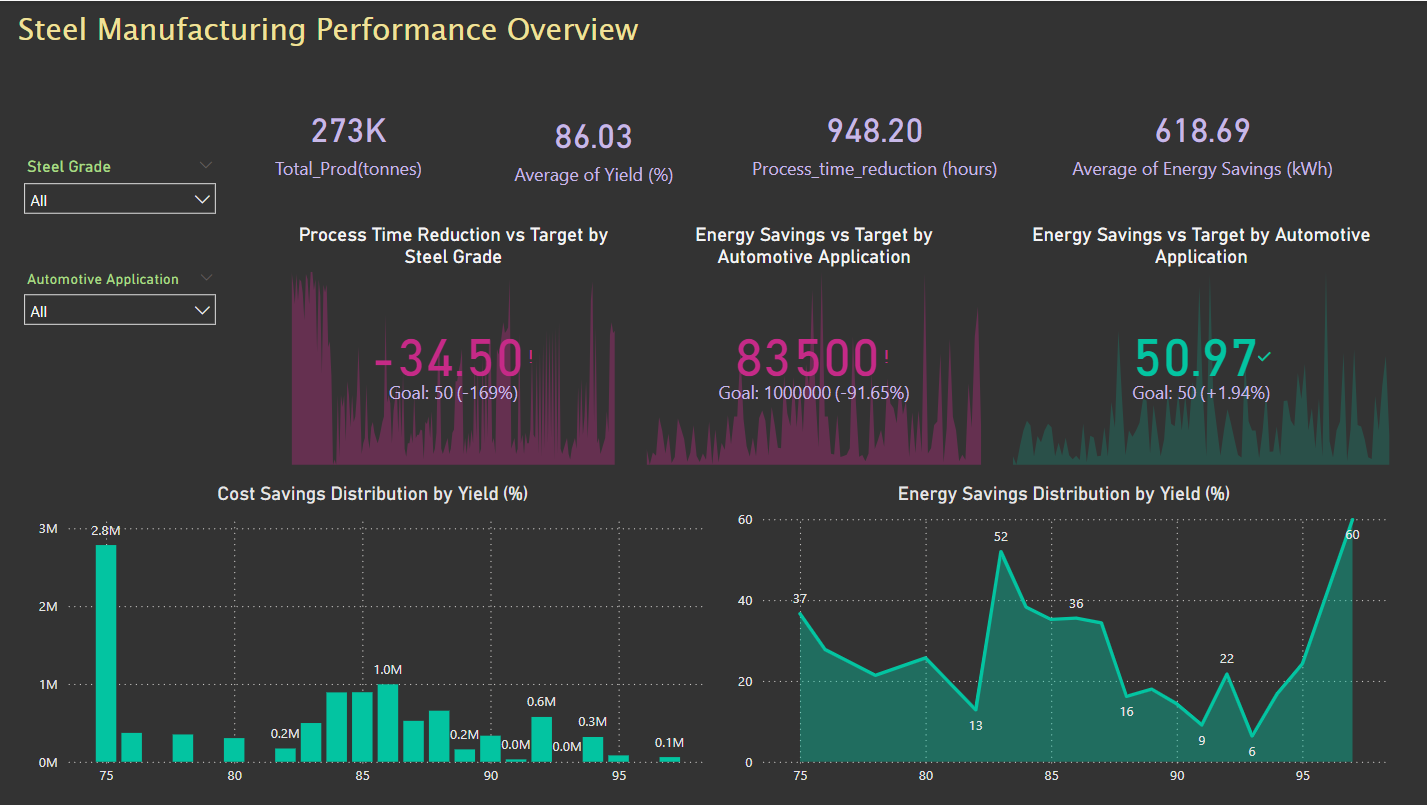

The dashboard page shown, as its layout file describes it:
{"tool":"powerbi","page":{"name":"KPI ","canvas":[1280,720],"ordinal":0},"visuals":[{"type":"kpi","title":"Energy Savings vs Target by Automotive Application","fields":{"Indicator":["Sum(data_new.Energy_savings_%)"],"TrendLine":["data_new.auto_app"],"Goal":["data_new.energy_saving_target(%)"]},"box":[904.6,199.1,346.3,220.7],"z":0},{"type":"kpi","title":"Energy Savings vs Target by Automotive Application","fields":{"Goal":["data_new.cost_saving_target($)"],"Indicator":["Sum(data_new.Total_cost_savings($))"],"TrendLine":["data_new.auto_app"]},"box":[577.1,199.1,308.8,220.7],"z":1000},{"type":"kpi","title":"Process Time Reduction vs Target by Steel Grade","fields":{"Indicator":["data_new.Process_time_reduction(%)"],"TrendLine":["data_new.steel_grade"],"Goal":["data_new.Target_process_reduction"]},"box":[259.7,199.1,298.7,220.7],"z":2000},{"type":"columnChart","title":"Cost Savings Distribution by Yield (%)","fields":{"Category":["data_new.Yield (%)"],"Y":["Sum(data_new.Total_cost_savings($))"]},"box":[33.2,429.9,607.4,279.9],"z":3000},{"type":"areaChart","title":"Energy Savings Distribution by Yield (%)","fields":{"Category":["data_new.Yield (%)"],"Y":["Avg(data_new.Energy_savings_%)"]},"box":[659.3,429.9,591.5,279.9],"z":4000},{"type":"slicer","fields":{"Values":["data_new.steel_grade"]},"box":[15.9,134.2,191.9,64.9],"z":5000},{"type":"slicer","fields":{"Values":["data_new.auto_app"]},"box":[15.9,235.2,191.9,75],"z":6000},{"type":"textbox","box":[15.9,0,581.4,73.6],"z":7000},{"type":"card","fields":{"Values":["data_new.Total_Prod(tonnes)"]},"box":[222.2,73.6,187.6,101],"z":8000},{"type":"card","fields":{"Values":["Avg(data_new.Yield (%))"]},"box":[440,73.6,190.4,111.1],"z":9000},{"type":"card","fields":{"Values":["data_new.Target_CT(hours)"]},"box":[668,73.6,236.6,101],"z":10000},{"type":"card","fields":{"Values":["Avg(data_new.Total Energy savings(kWh))"]},"box":[936.4,73.6,284.2,101],"z":11000}]}

Visuals, with their boxes in screenshot pixels (x1, y1, x2, y2), scaled from the page's 1280x720 canvas onto the 1427x805 screenshot:
"Energy Savings vs Target by Automotive Application" kpi: (x1=1008, y1=223, x2=1395, y2=469)
"Energy Savings vs Target by Automotive Application" kpi: (x1=643, y1=223, x2=988, y2=469)
"Process Time Reduction vs Target by Steel Grade" kpi: (x1=290, y1=223, x2=623, y2=469)
"Cost Savings Distribution by Yield (%)" columnChart: (x1=37, y1=481, x2=714, y2=794)
"Energy Savings Distribution by Yield (%)" areaChart: (x1=735, y1=481, x2=1394, y2=794)
slicer - data_new.steel_grade: (x1=18, y1=150, x2=232, y2=223)
slicer - data_new.auto_app: (x1=18, y1=263, x2=232, y2=347)
textbox: (x1=18, y1=0, x2=666, y2=82)
card - data_new.Total_Prod(tonnes): (x1=248, y1=82, x2=457, y2=195)
card - Avg(data_new.Yield (%)): (x1=491, y1=82, x2=703, y2=207)
card - data_new.Target_CT(hours): (x1=745, y1=82, x2=1008, y2=195)
card - Avg(data_new.Total Energy savings(kWh)): (x1=1044, y1=82, x2=1361, y2=195)
